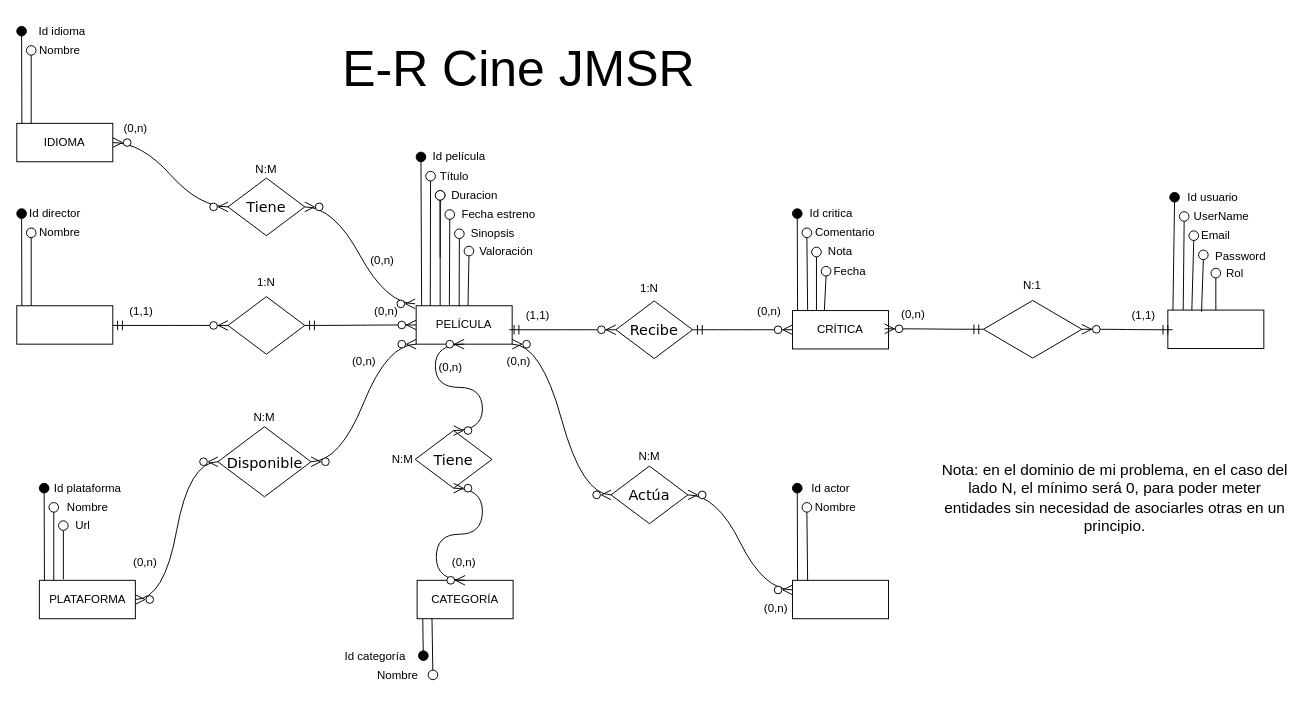
The diagram is 1309 pixels wide and 706 high, and some of its shapes have lost their labels. The shapes that lost their labels are listed below. From the top down, each one's box as (x1, y1, x2, y2) in pixels, then its label:
(16, 305, 113, 344): DIRECTOR
(227, 296, 305, 354): Dirigida
(983, 300, 1082, 358): Redactada
(1167, 309, 1264, 348): USUARIO
(792, 579, 888, 619): ACTOR
